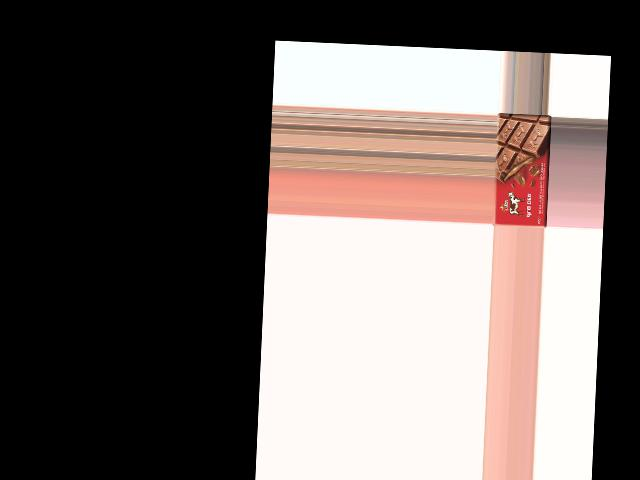chocolate: (492, 114, 550, 228)
